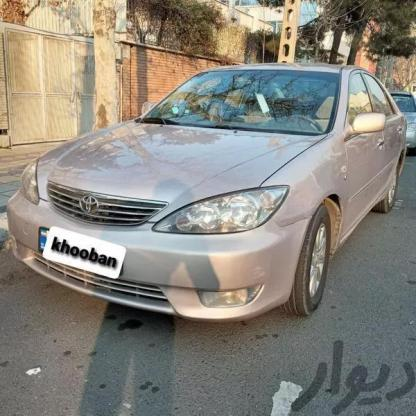Car: (0, 62, 410, 316)
